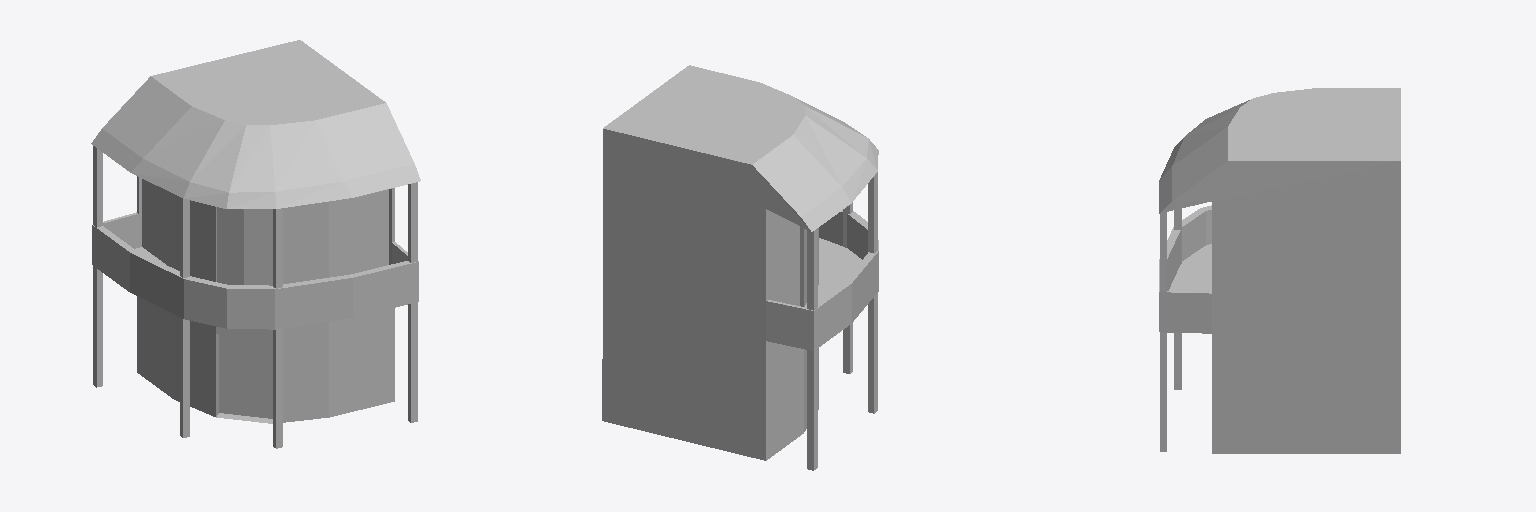
The model's file is JazzCorner2.obj.
3 renders of one model, left to right at view 1: azimuth 30°, elevation 25°; view 2: azimuth 150°, elevation 25°; view 3: azimuth 270°, elevation 25°, orthographic.
Visible parts, largest first — view 1: JazzCornerH.001; view 2: JazzCornerH.001; view 3: JazzCornerH.001.
Boxes of the visible parts, box(x1,y1,x2,y2) form: JazzCornerH.001: box(91, 40, 420, 448); JazzCornerH.001: box(602, 65, 878, 470); JazzCornerH.001: box(1159, 88, 1400, 453).
Size of the model in its own units: 6.41 by 8.55 by 6.42.